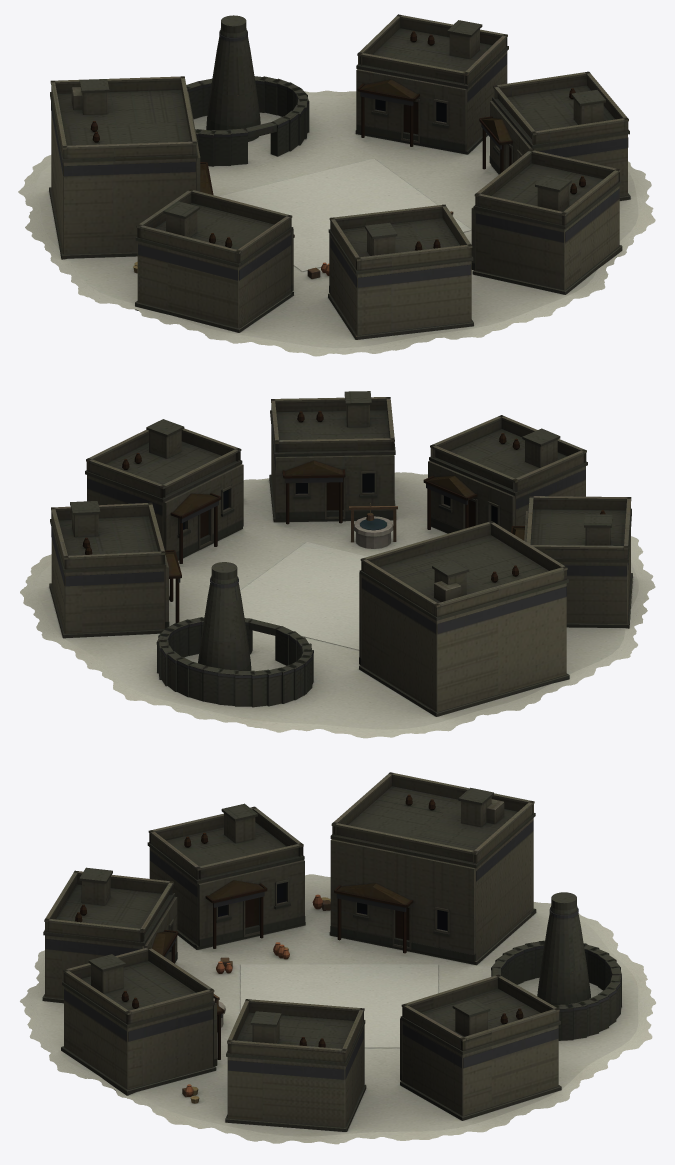
File: kingdoms-town-small-a-eastafrica.glb
3 renders of one model, top to bottom at view 1: azimuth 30°, elevation 25°; view 2: azimuth 150°, elevation 25°; view 3: azimuth 270°, elevation 25°, orthographic.
Visible parts, largest first — view 1: LOD0; view 2: LOD0; view 3: LOD0.
Part boxes in pixels (bbox=[...]): LOD0: bbox=[18, 14, 655, 356]; LOD0: bbox=[20, 391, 655, 738]; LOD0: bbox=[20, 772, 655, 1144].
Size of what is drawn, in the model's own units: 3.99 by 0.8685 by 3.94.
3 materials, 3 textured.
